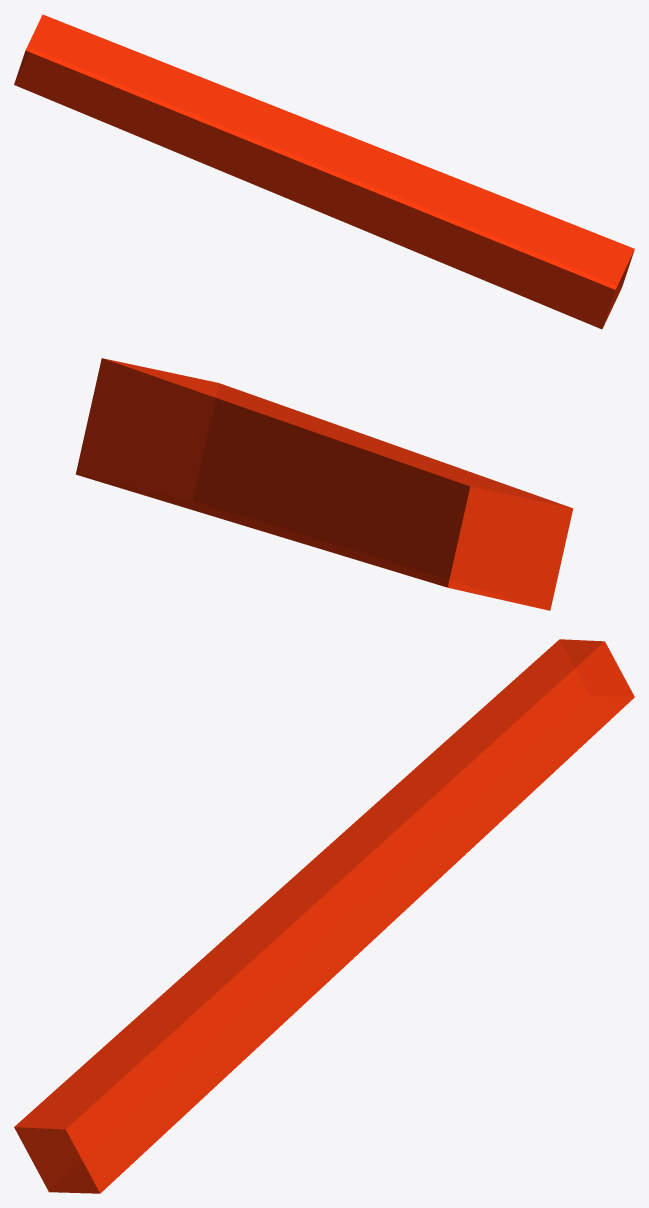
Rendered from Event_421115418_EBrechit_26.fbx.
3 views of the same model, one above another, from view 1: azimuth 30°, elevation 25°; view 2: azimuth 150°, elevation 25°; view 3: azimuth 270°, elevation 25° (orthographic). The views are drawn at different scales.
Visible parts, largest first — view 1: Model; view 2: Model; view 3: Model.
Boxes of the visible parts, left/top/right/bottom form: Model: left=14, top=14, right=634, bottom=329; Model: left=75, top=358, right=573, bottom=610; Model: left=14, top=639, right=634, bottom=1193.
Bounding box in the file's own units: 0.5202 × 0.2898 × 0.5009.
